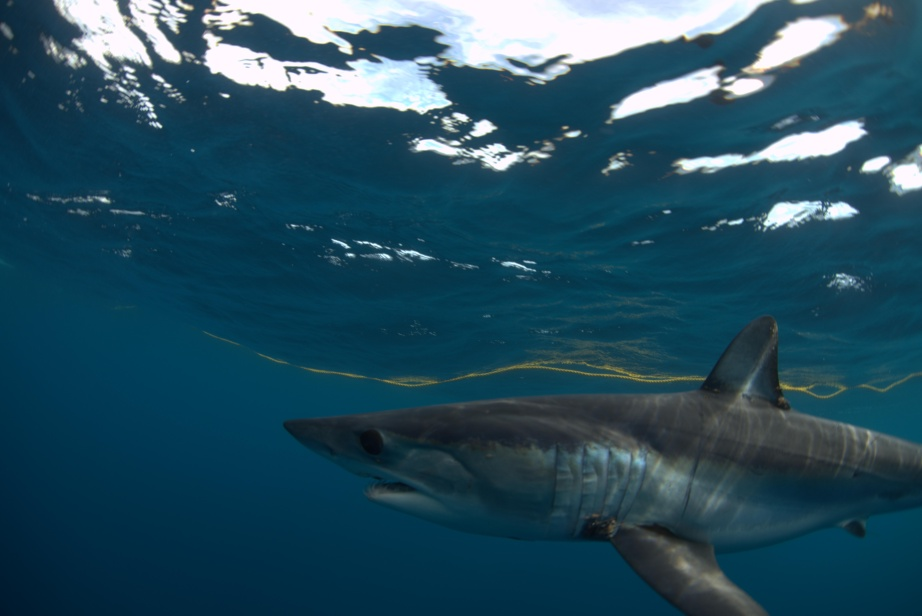Mako: (262, 306, 922, 613)
